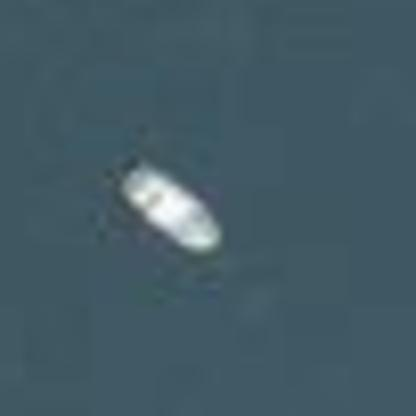ship: (99, 150, 230, 258)
